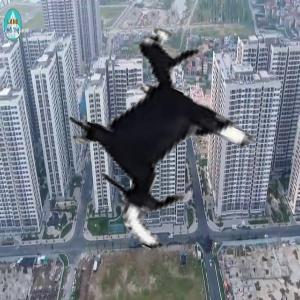drone: (51, 23, 284, 256)
